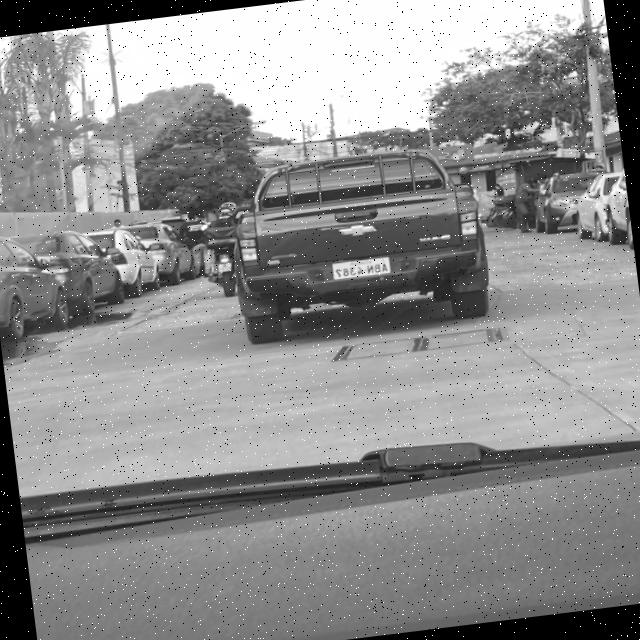Placa: (332, 258, 389, 280)
